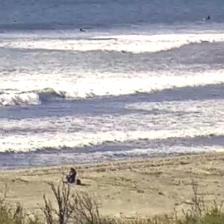surfer: (78, 27, 85, 33), (206, 15, 211, 21)
